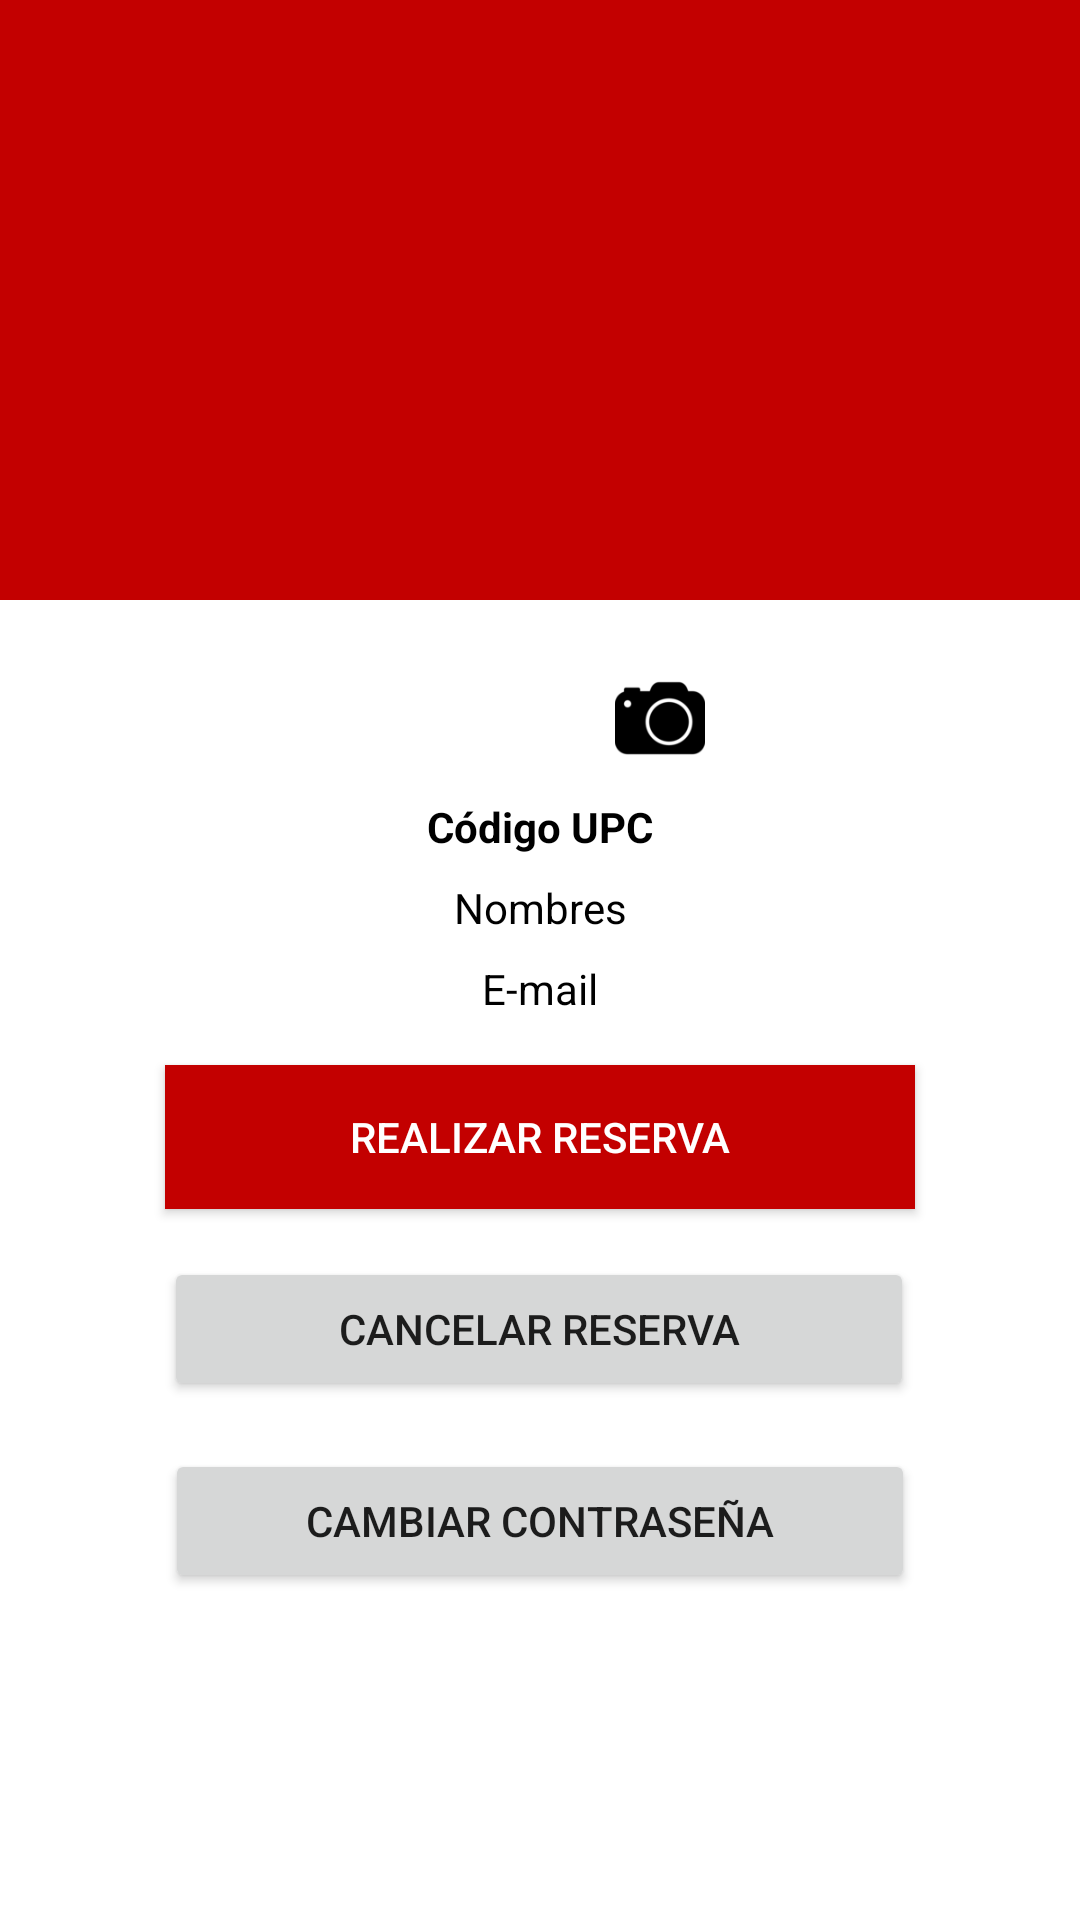

Screen size 1080w x 1920h. Icon name, then its box in pixels as BBox(x1, y1, x2, y2):
cam: BBox(615, 682, 705, 755)
